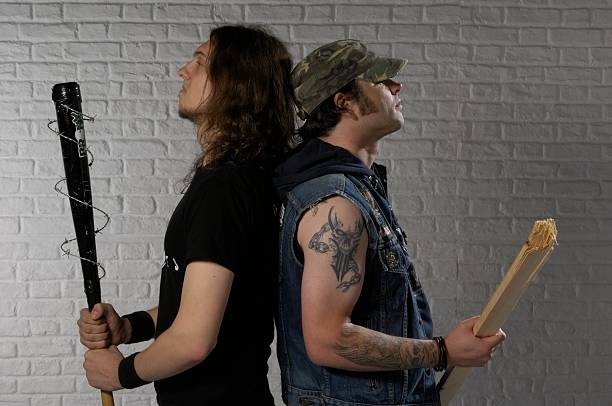bita: (50, 81, 116, 406)
